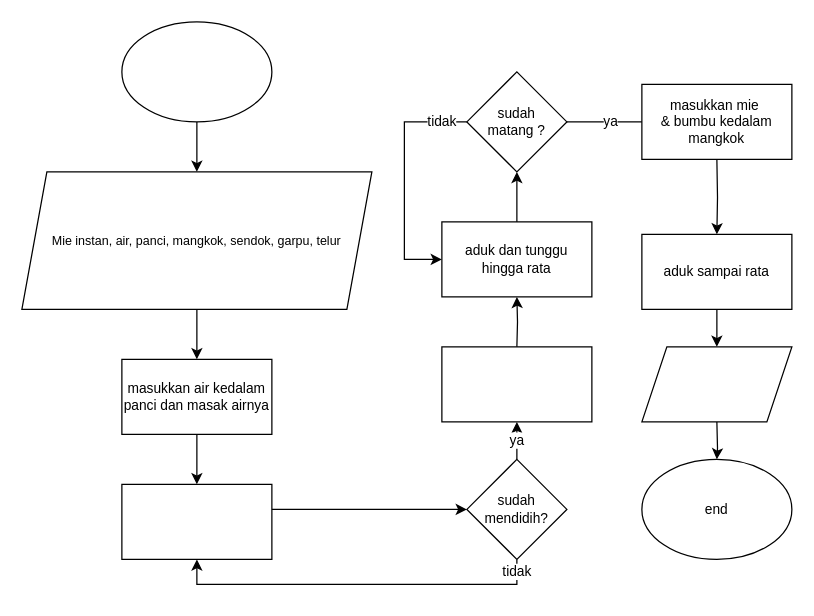
Image size: 814x616. Some labels were removed from this diagram. Each missing label, with the centre of its shape:
"masukkan mie instan & telur" belongs at point (516, 384).
"mie siap dihidangkan" belongs at point (716, 384).
"start" belongs at point (196, 71).
"Tunggu air hingga mendidih" belongs at point (196, 521).
